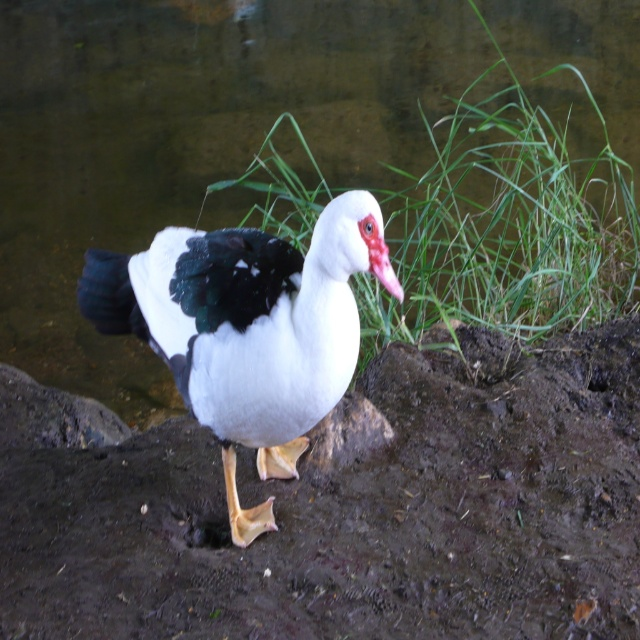Duck: (74, 188, 402, 550)
